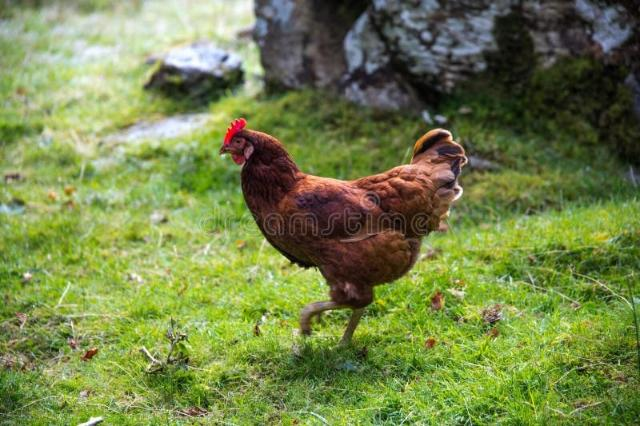Chicken: (219, 118, 467, 342)
